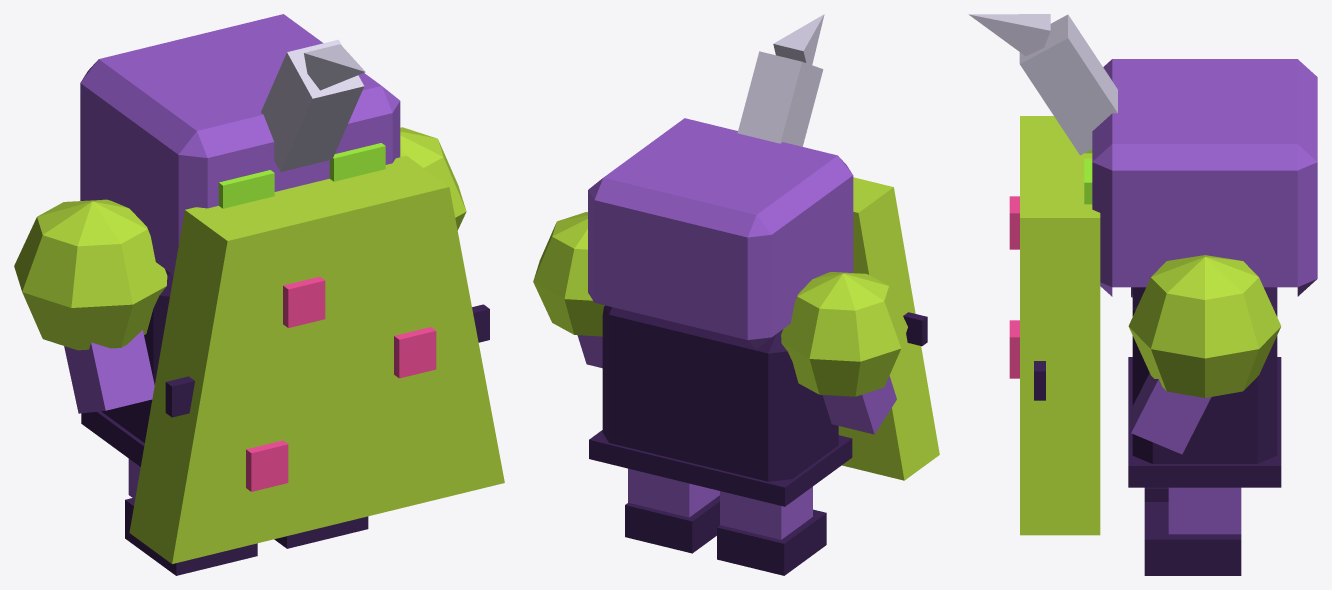
Rendered from brute_r11.glb.
3 renders of one model, left to right at view 1: azimuth 30°, elevation 25°; view 2: azimuth 150°, elevation 25°; view 3: azimuth 270°, elevation 25°, orthographic. The views are drawn at different scales.
Parts seen in each view (by area): view 1: brute_r11_mesh; view 2: brute_r11_mesh; view 3: brute_r11_mesh.
Boxes of the visible parts, bbox=[...] form: brute_r11_mesh: bbox=[14, 14, 504, 575]; brute_r11_mesh: bbox=[533, 14, 939, 575]; brute_r11_mesh: bbox=[968, 14, 1317, 575].
Size of the model in its own units: 1.83 by 2.2 by 1.35.
1 material, 1 textured.
